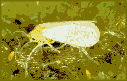whitefly: (25, 16, 101, 51)
